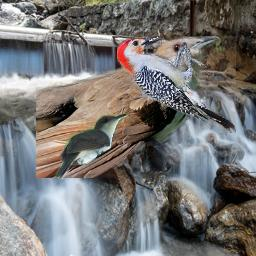Cuckoo: (36, 36, 220, 178), (54, 113, 129, 180)
Woodpecker: (117, 36, 236, 133)
